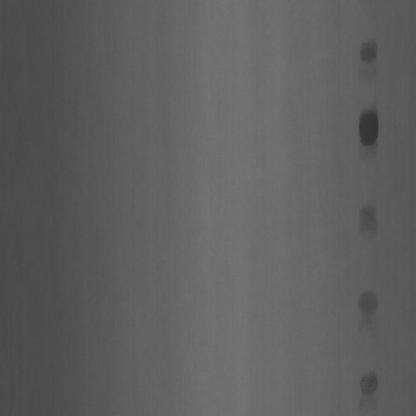oil_spot: (351, 97, 382, 160), (351, 26, 381, 75), (352, 282, 382, 321), (353, 199, 379, 238), (355, 362, 379, 398)
